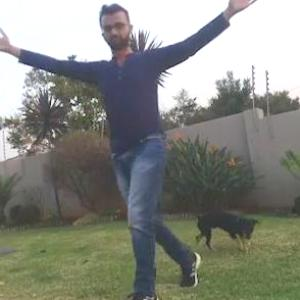takeoff: (17, 2, 250, 270)
